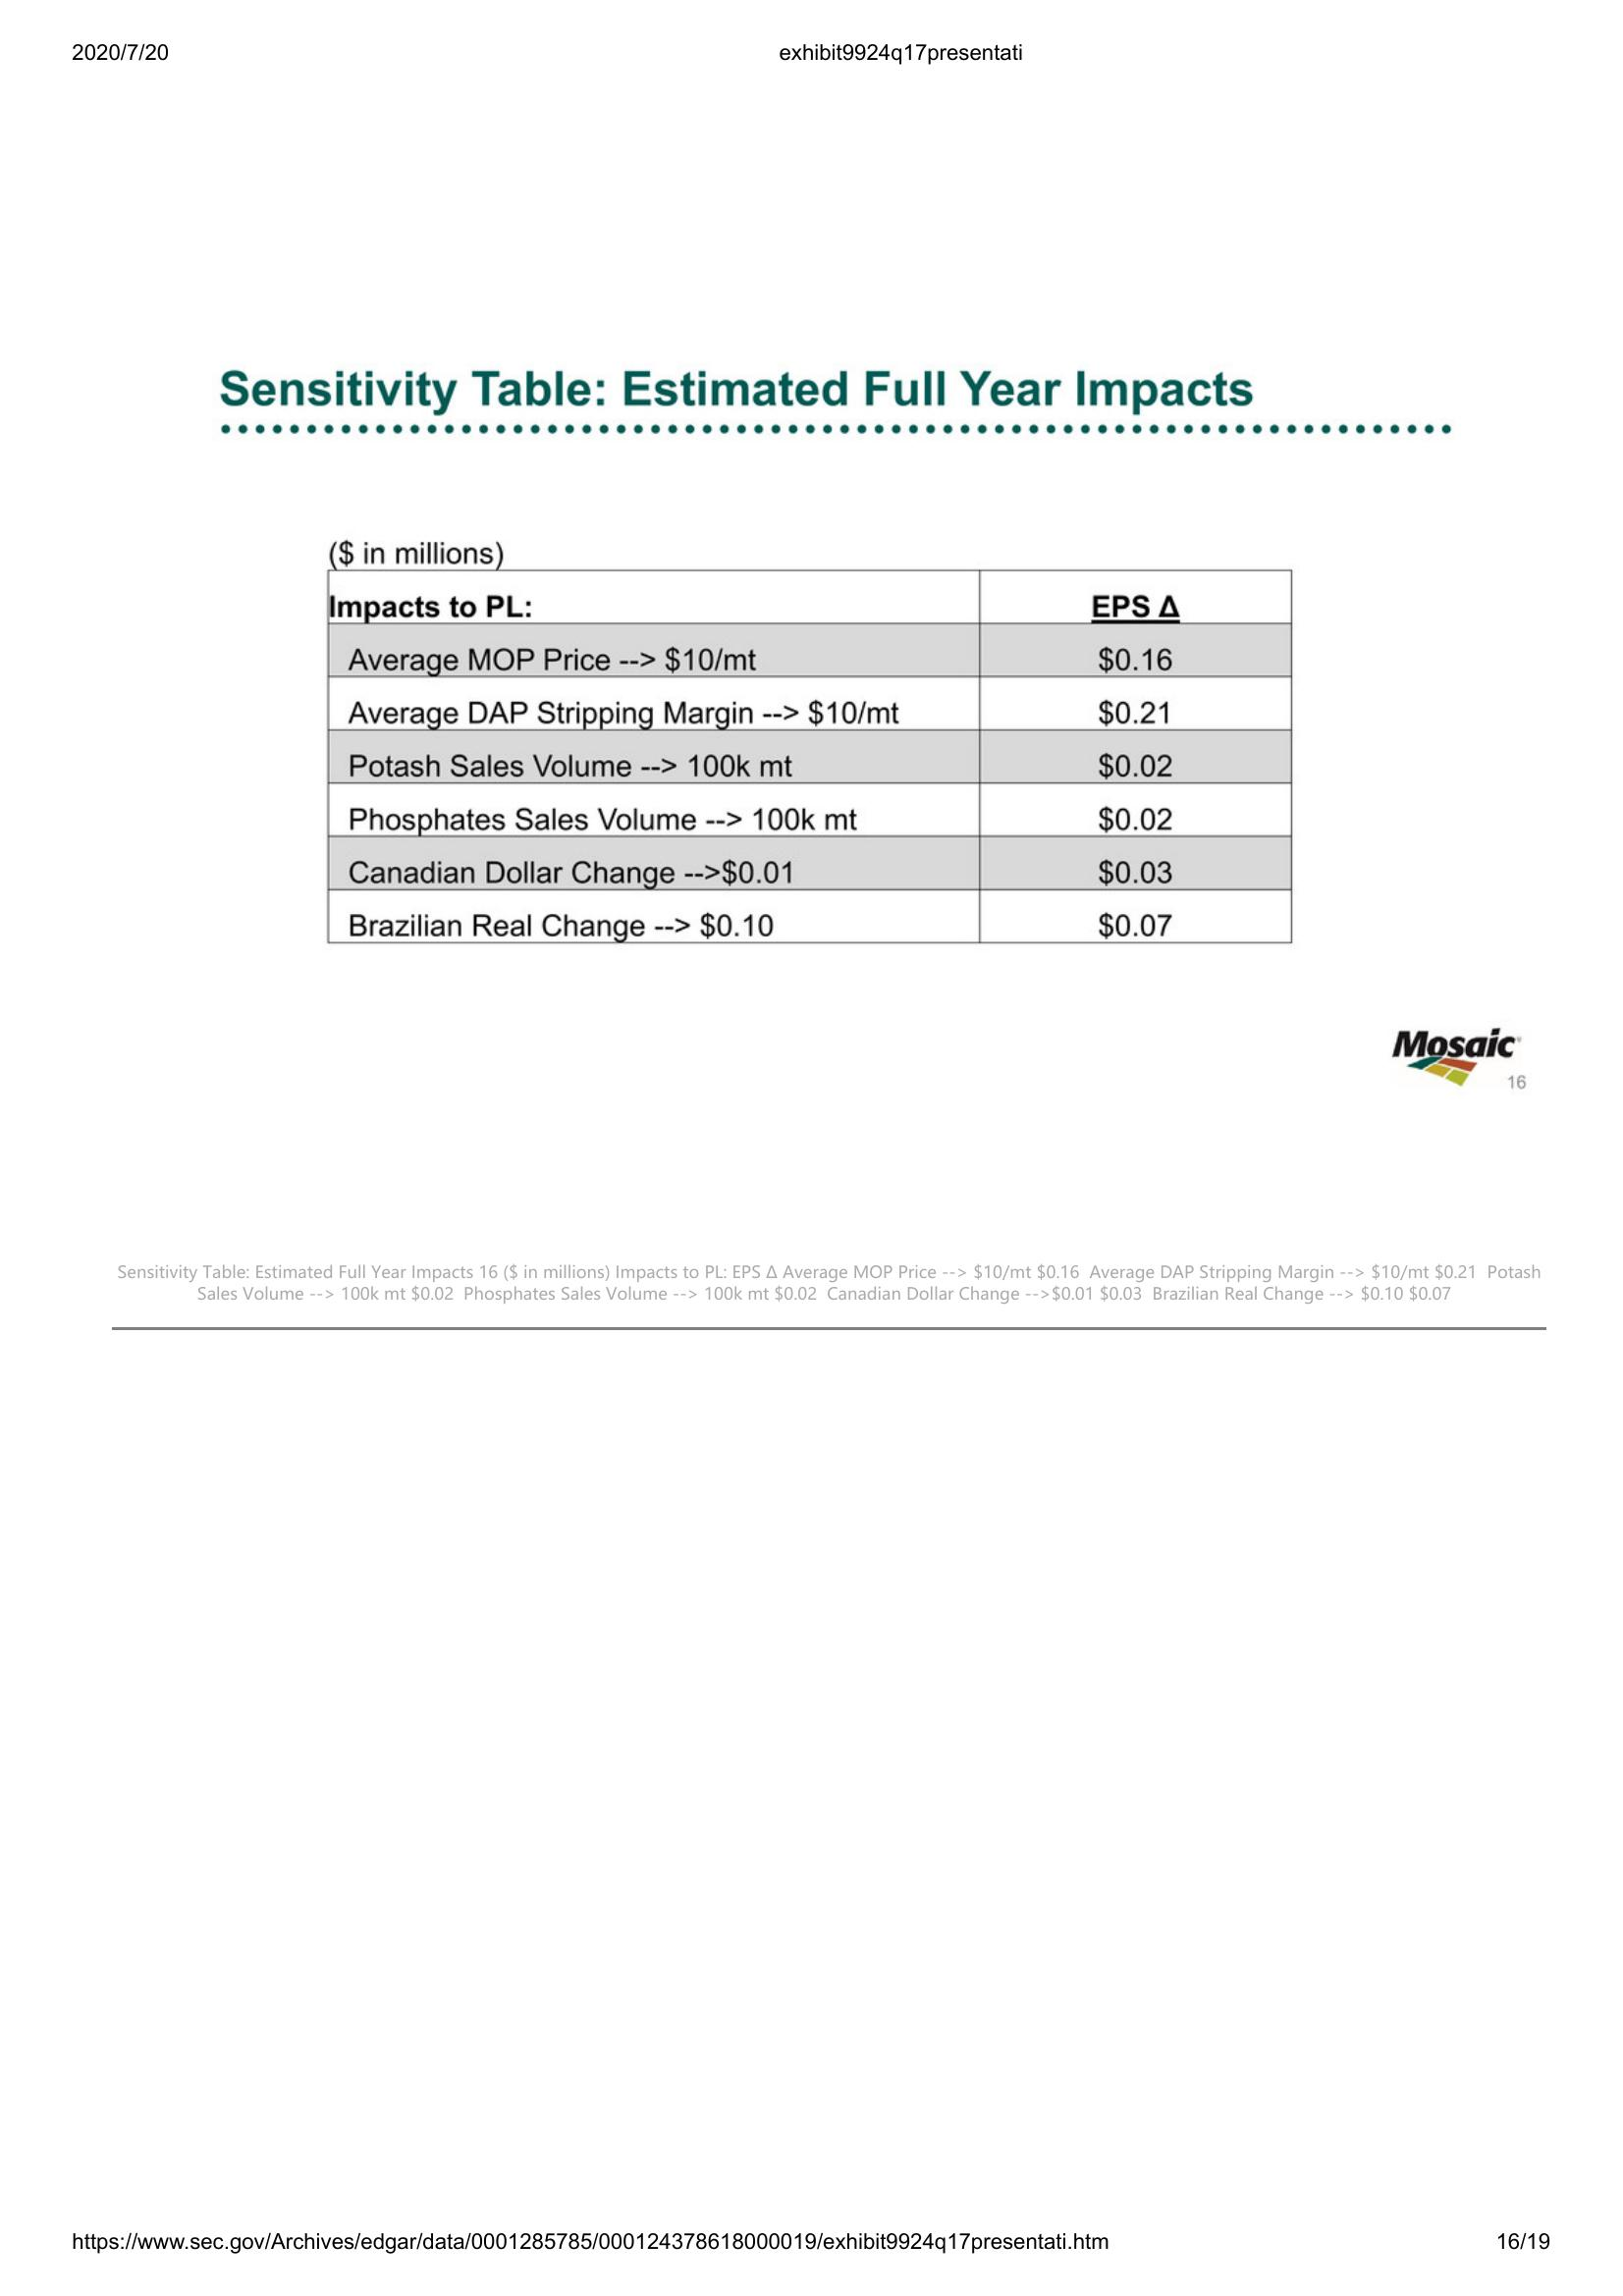table: (318, 562, 1300, 955)
